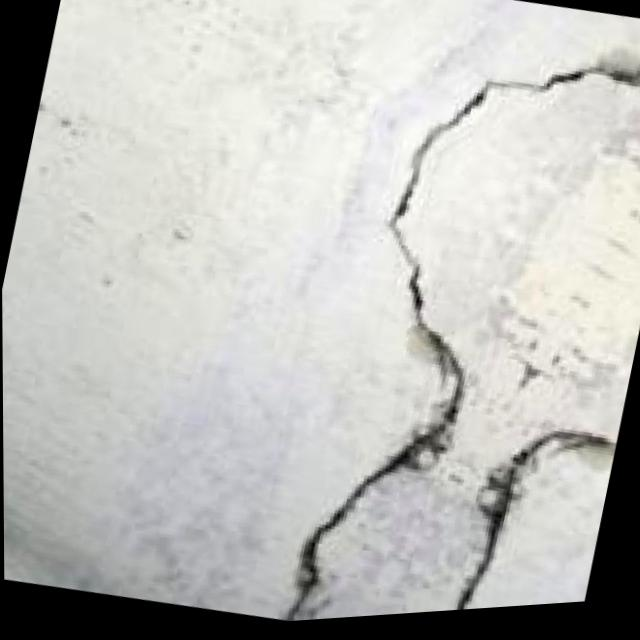Crack: (248, 0, 640, 627)
